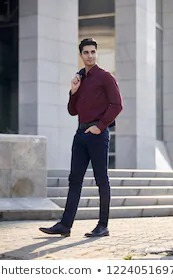F_dress pants: (61, 120, 115, 227)
F_shirt: (68, 64, 123, 127)
